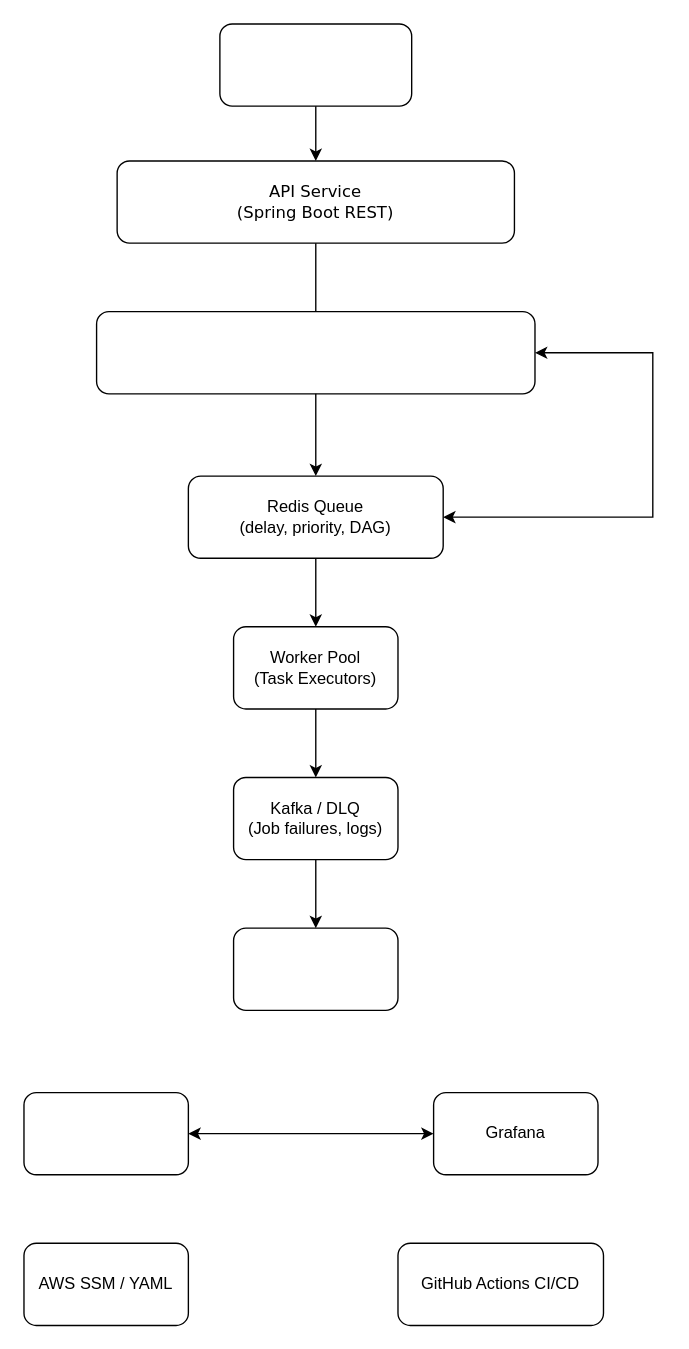
This 689x1349 diagram has some shape labels left out. The centre of each missing label's shape, as x and y in pixels:
"Client (UI)" belongs at point 315,64.
"Notifier Service (Email / Webhook)" belongs at point 315,968.
"PostgreSQL (Job Metadata DB)" belongs at point 315,352.
"Prometheus" belongs at point 105,1133.
